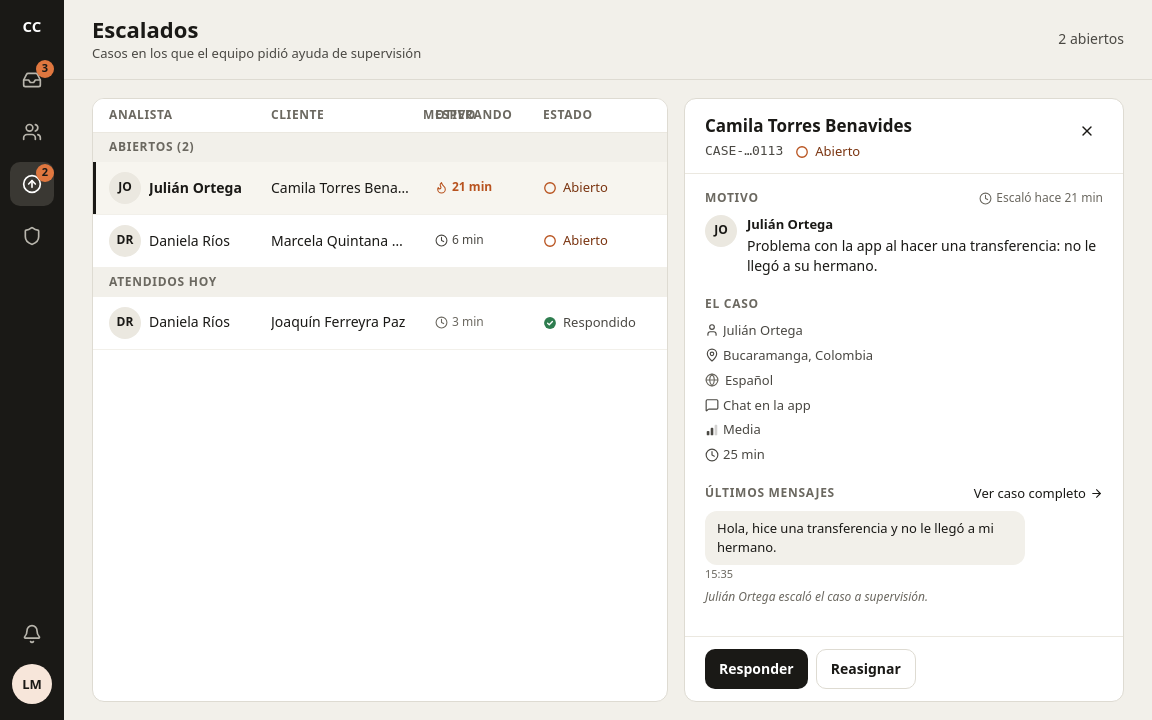
Scenario: escalations screen ("Escalados") › reassigns from the panel with the shared dialog
Step 1. Click the button "Reasignar" → [866, 669], box [816,649,916,689]
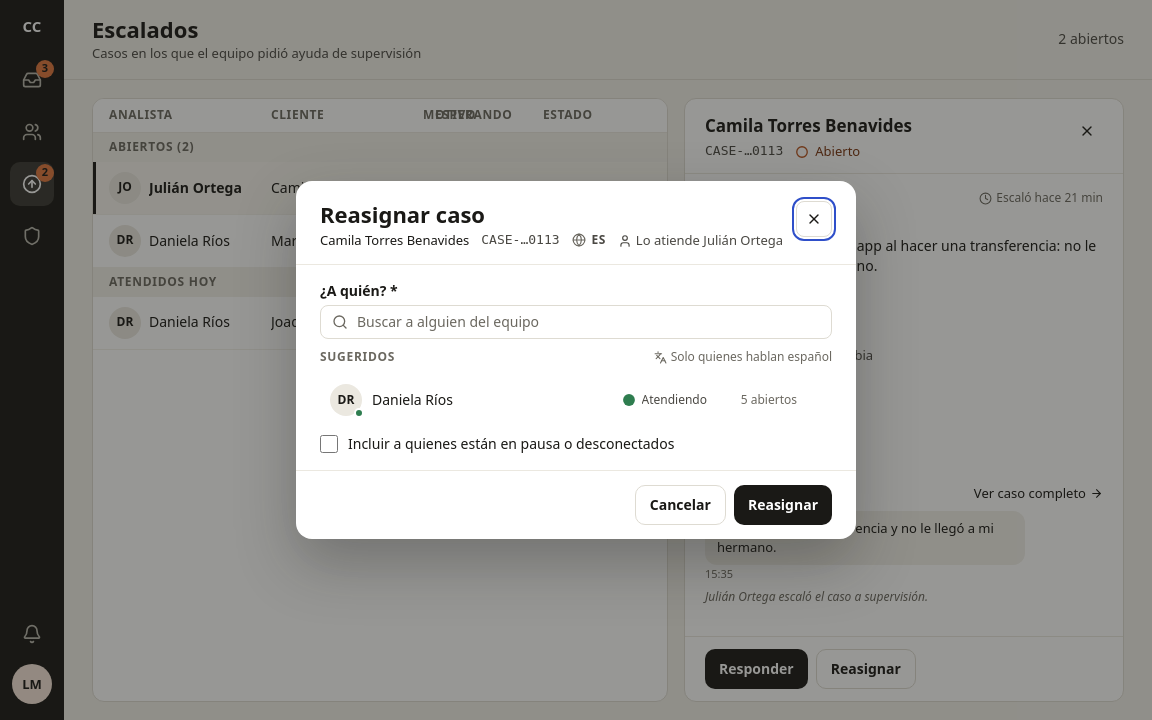
Step 2. Click the radio button labelled "DR Daniela Ríos Atendiendo 5 abiertos" → [346, 400], box [320,376,832,424]
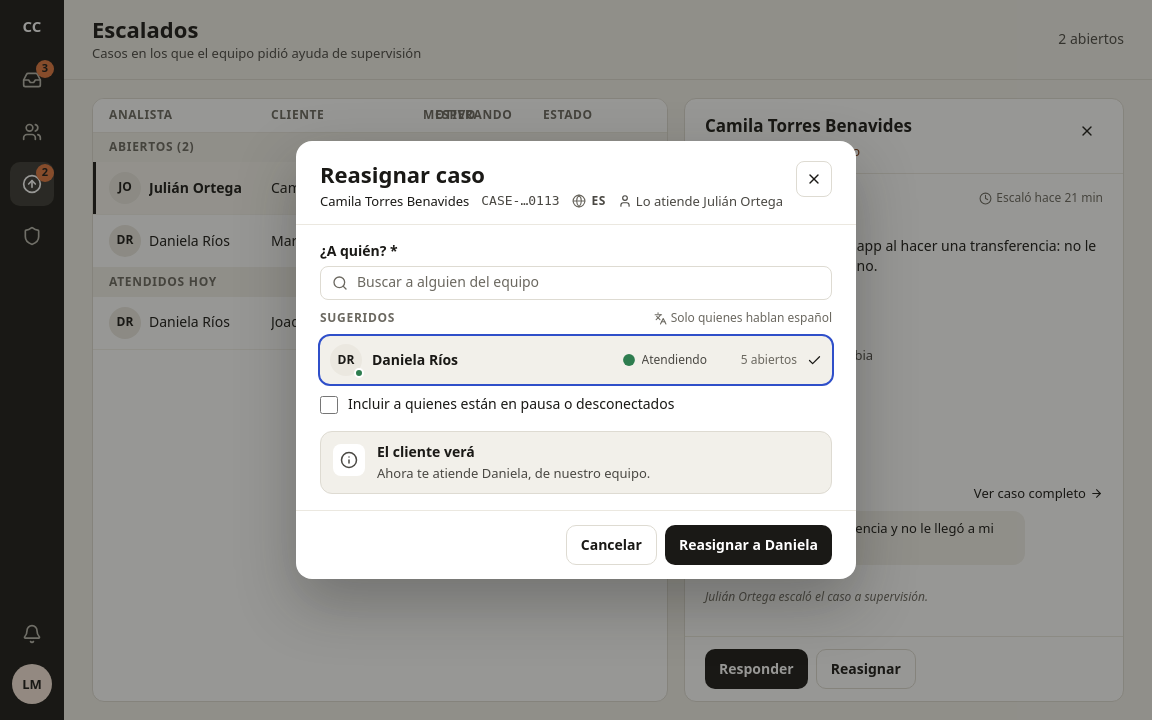
Step 3. Click the button "Reasignar a Daniela" → [748, 545], box [665,525,832,565]
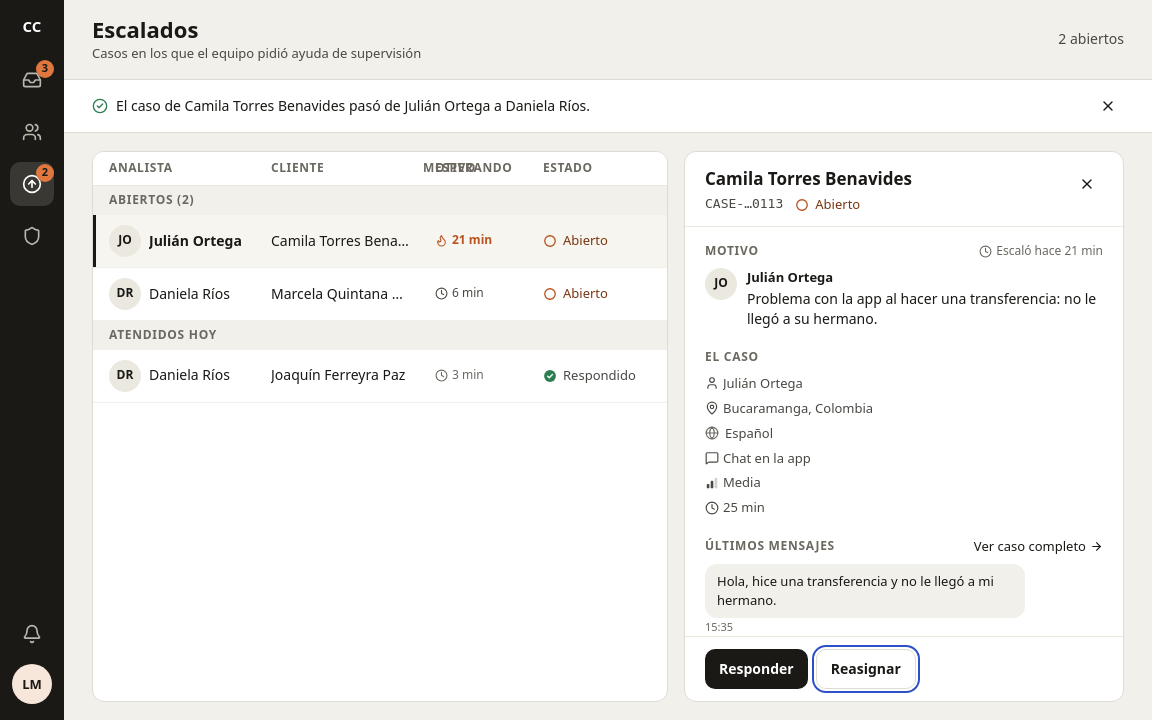
Now the text "El caso de Camila Torres Benavides pasó de Julián Ortega a Daniela Ríos." is shown, box [116,96,590,116]
